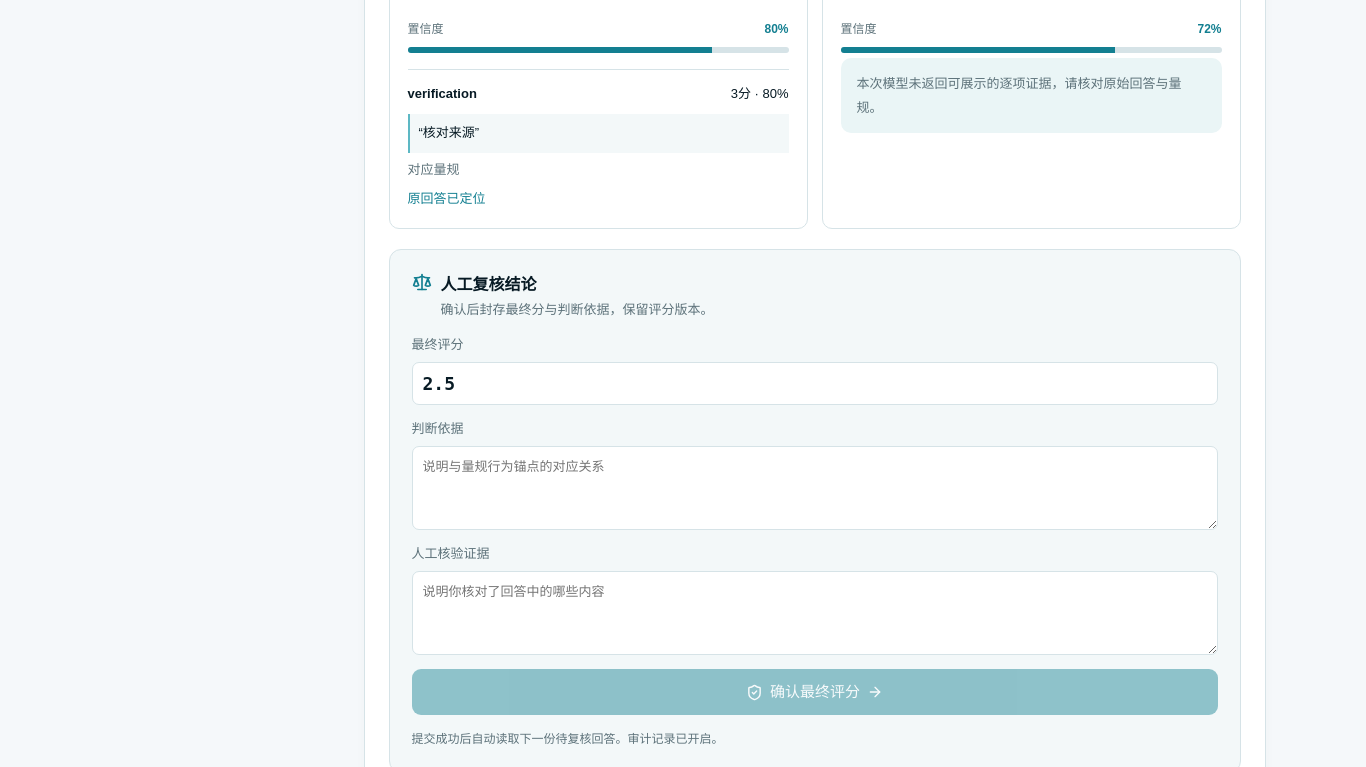
Test: ReviewWorkbenchView › loads an evaluator queue and seals a stable idempotent review
The image size is (1366, 767).
(page scrolled)
Replace the text in the number field with test id "review-score" with "3.5": point(814, 383) x1=412 y1=362 x2=1218 y2=405
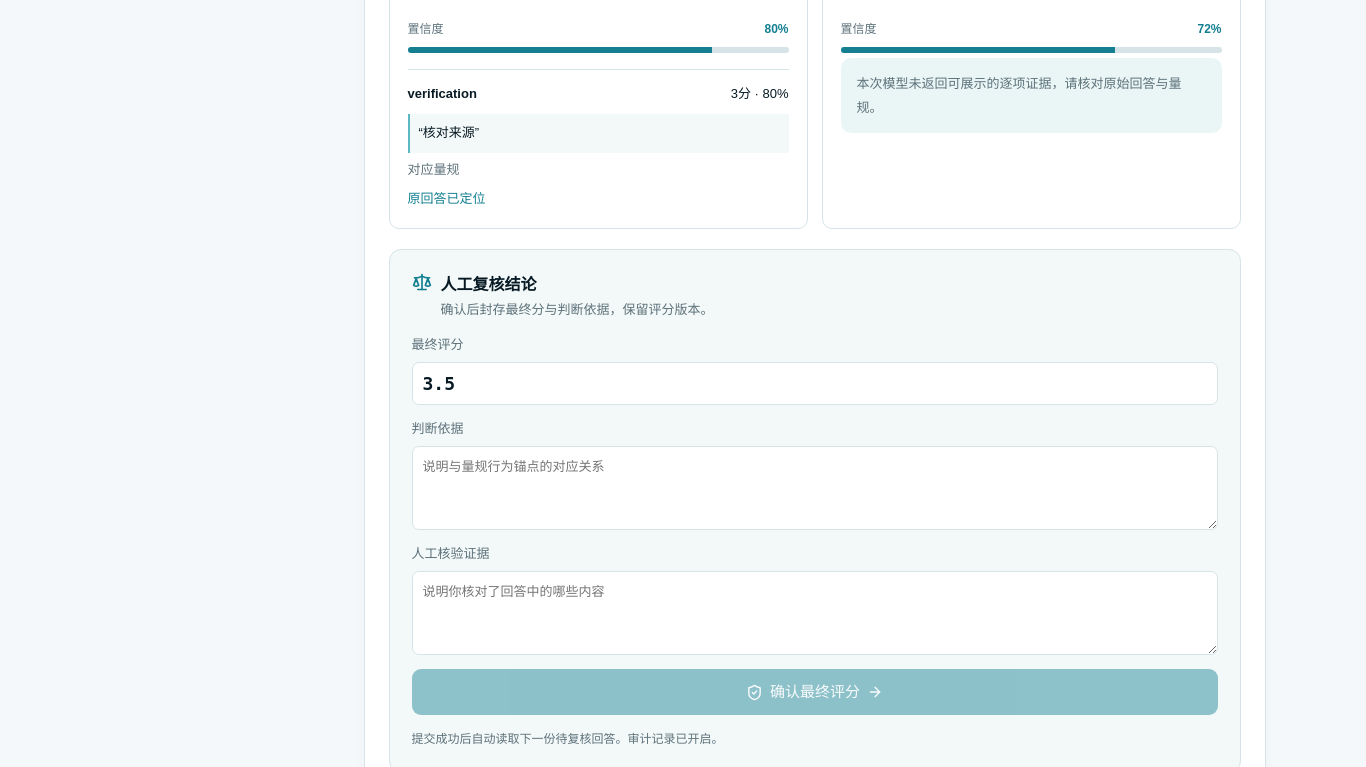
In the text box with test id "review-rationale": point(814, 488) x1=412 y1=446 x2=1218 y2=530, type "人工核对后确认达到完整闭环。"
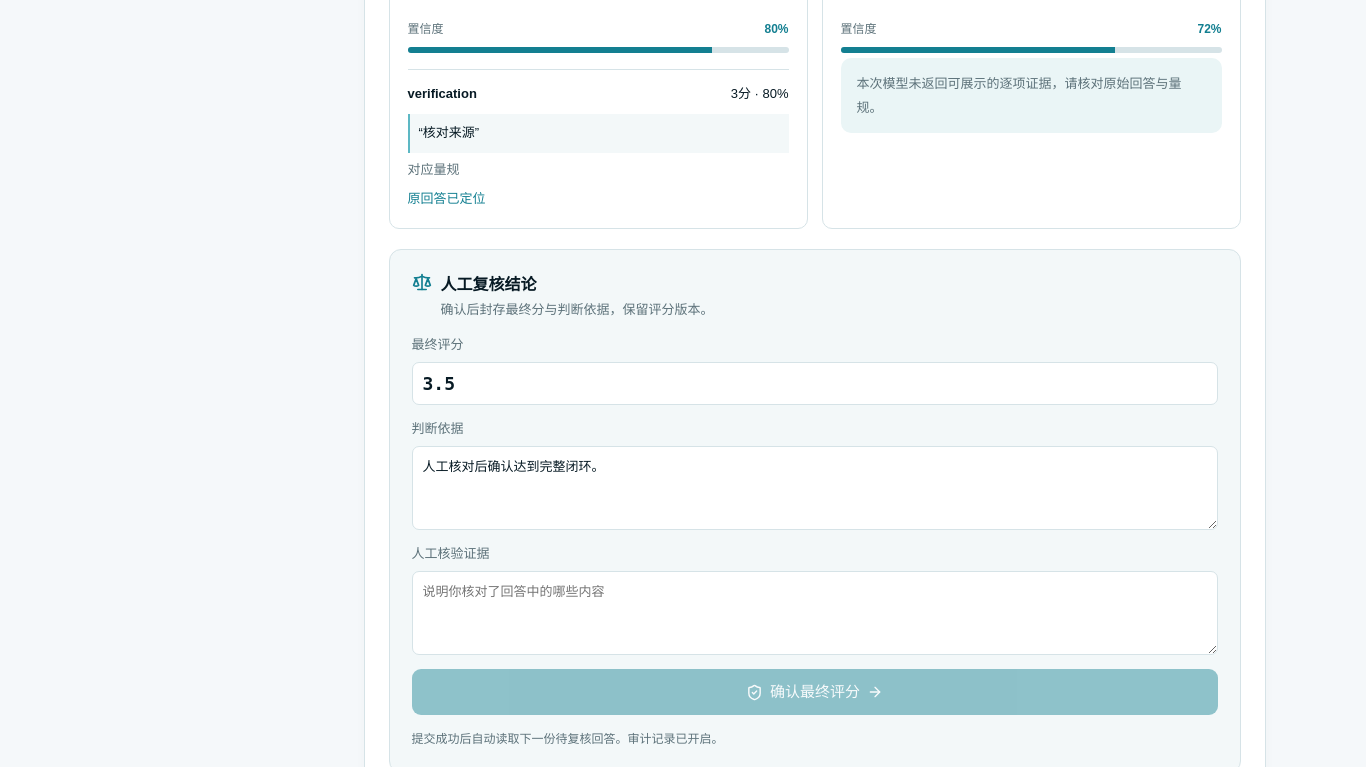
In the text box with test id "review-evidence": point(814, 613) x1=412 y1=571 x2=1218 y2=655, type "回答明确提出核对来源。"
(page scrolled)
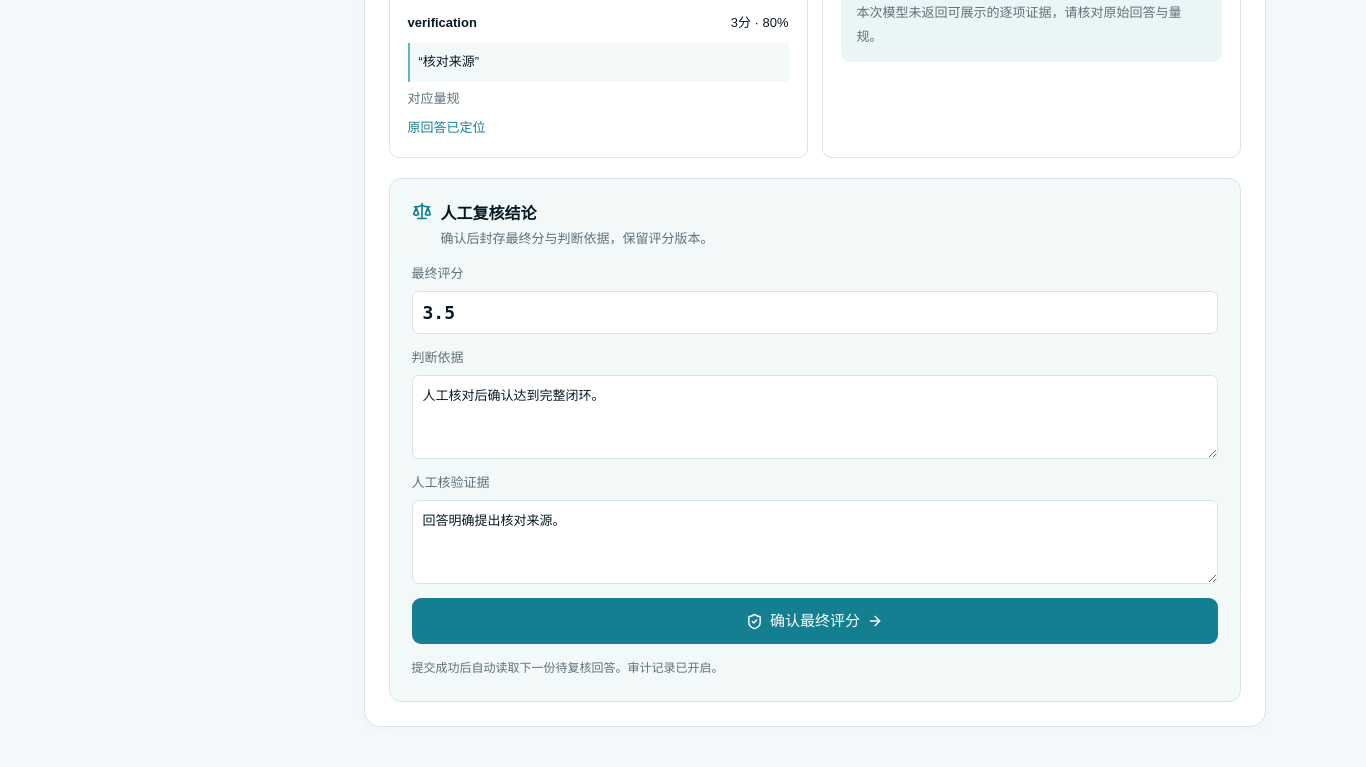
Now the button with test id "resolve-review" is enabled, box x1=412 y1=598 x2=1218 y2=644
Submit the form, box x1=388 y1=178 x2=1240 y2=702
(page scrolled)
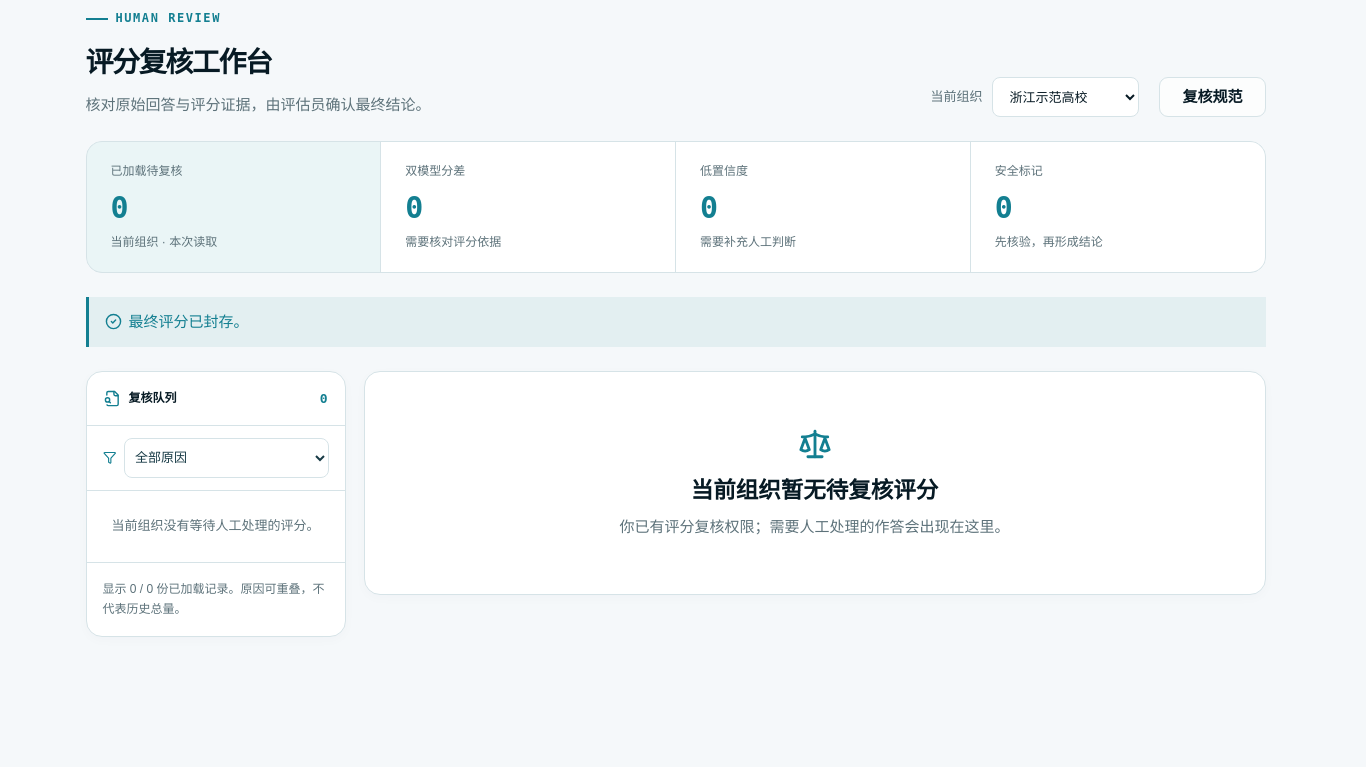
Now the text "最终评分已封存" is shown, box x1=128 y1=313 x2=248 y2=330
